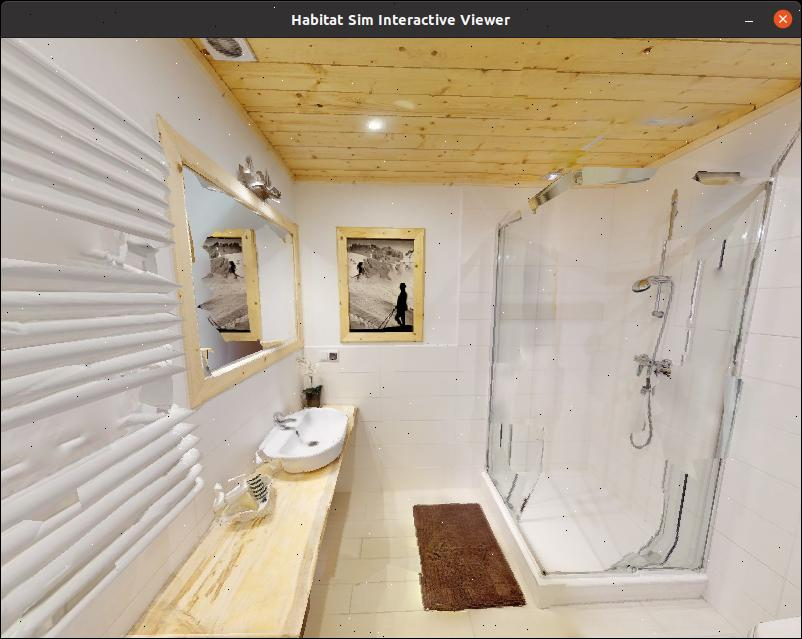shower: (471, 185, 744, 583)
sink: (253, 393, 359, 472)
